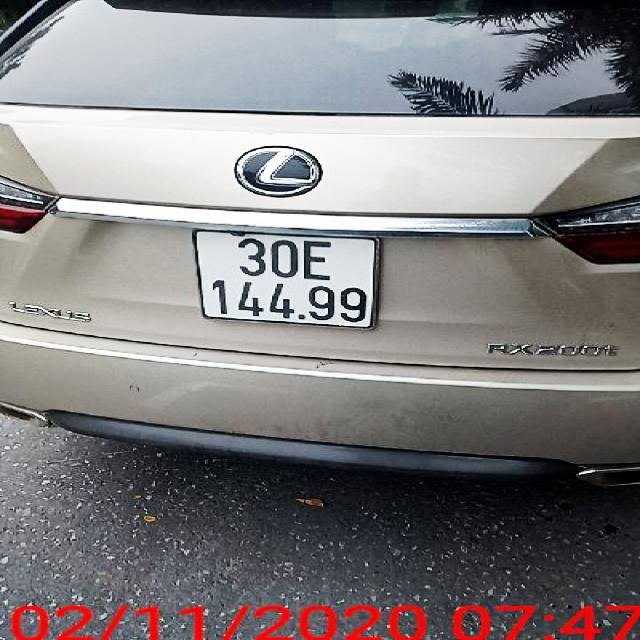license_plate: (194, 230, 381, 330)
